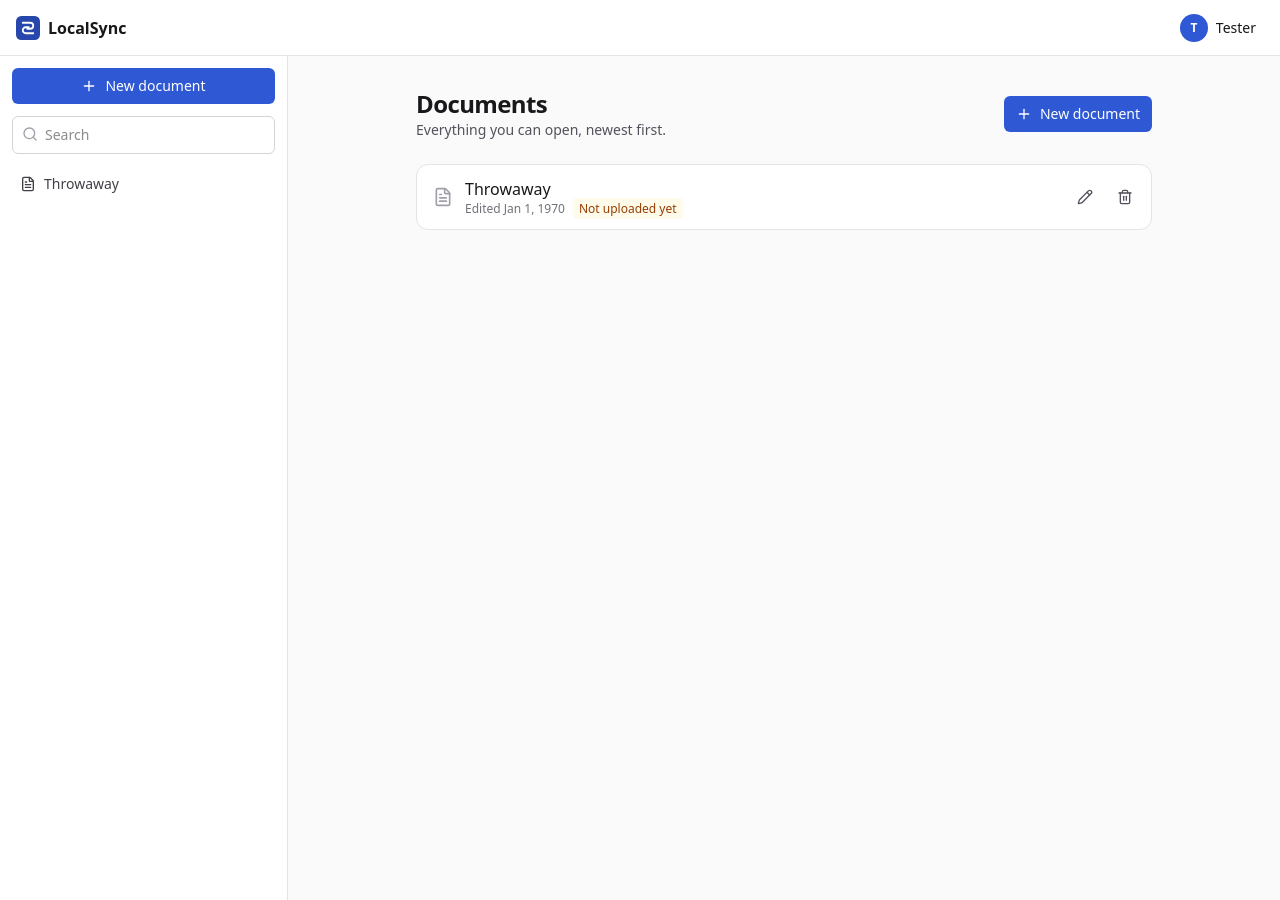
dashboard › asks for confirmation before deleting, and deleting restores the empty state
Click the button named "Delete Throwaway". click: (1125, 197)
box: 1107,179 -> 1143,215
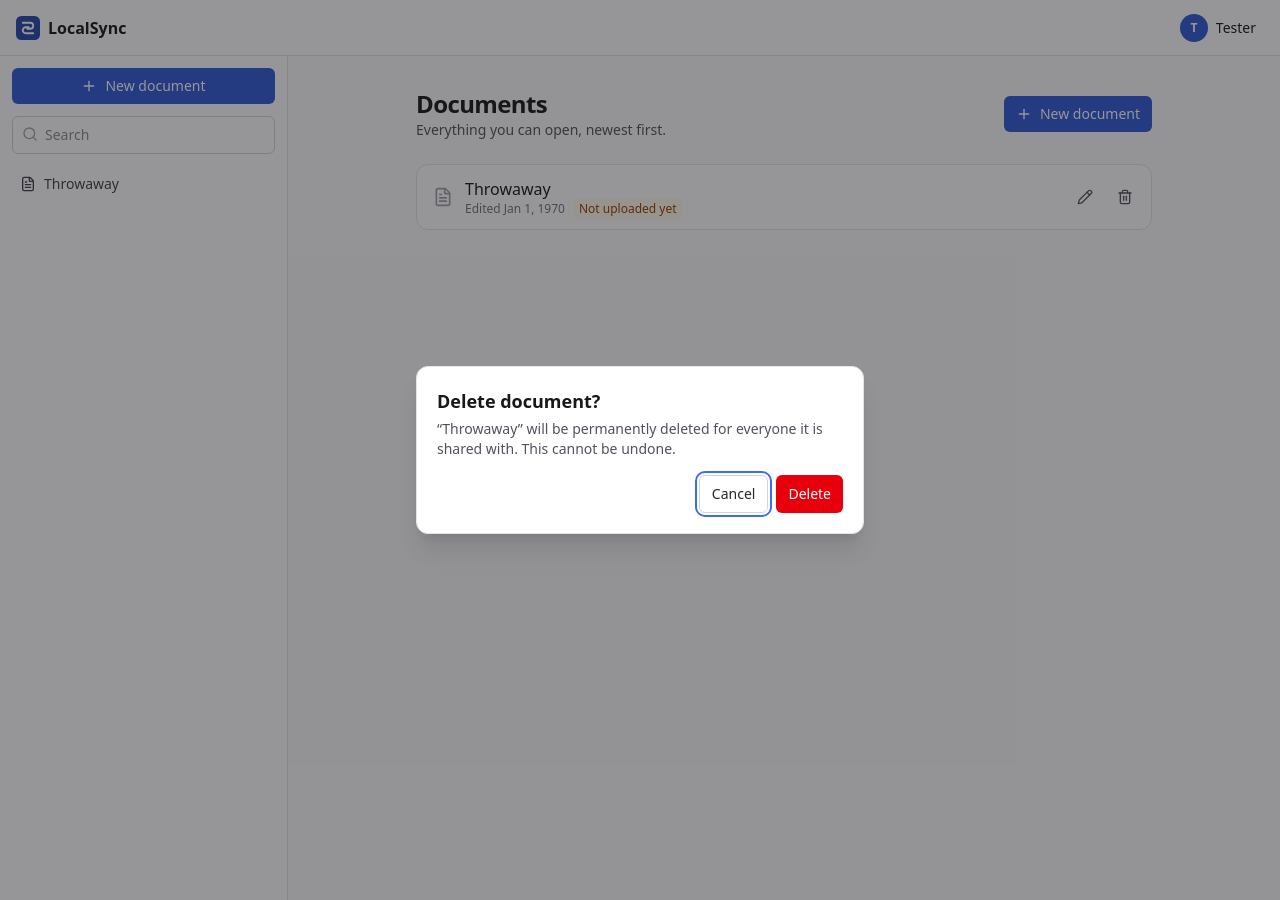
Expected: the text "permanently deleted" is shown, 437,419 -> 823,458
Click the button "Cancel". click: (734, 494)
box: 699,475 -> 768,513
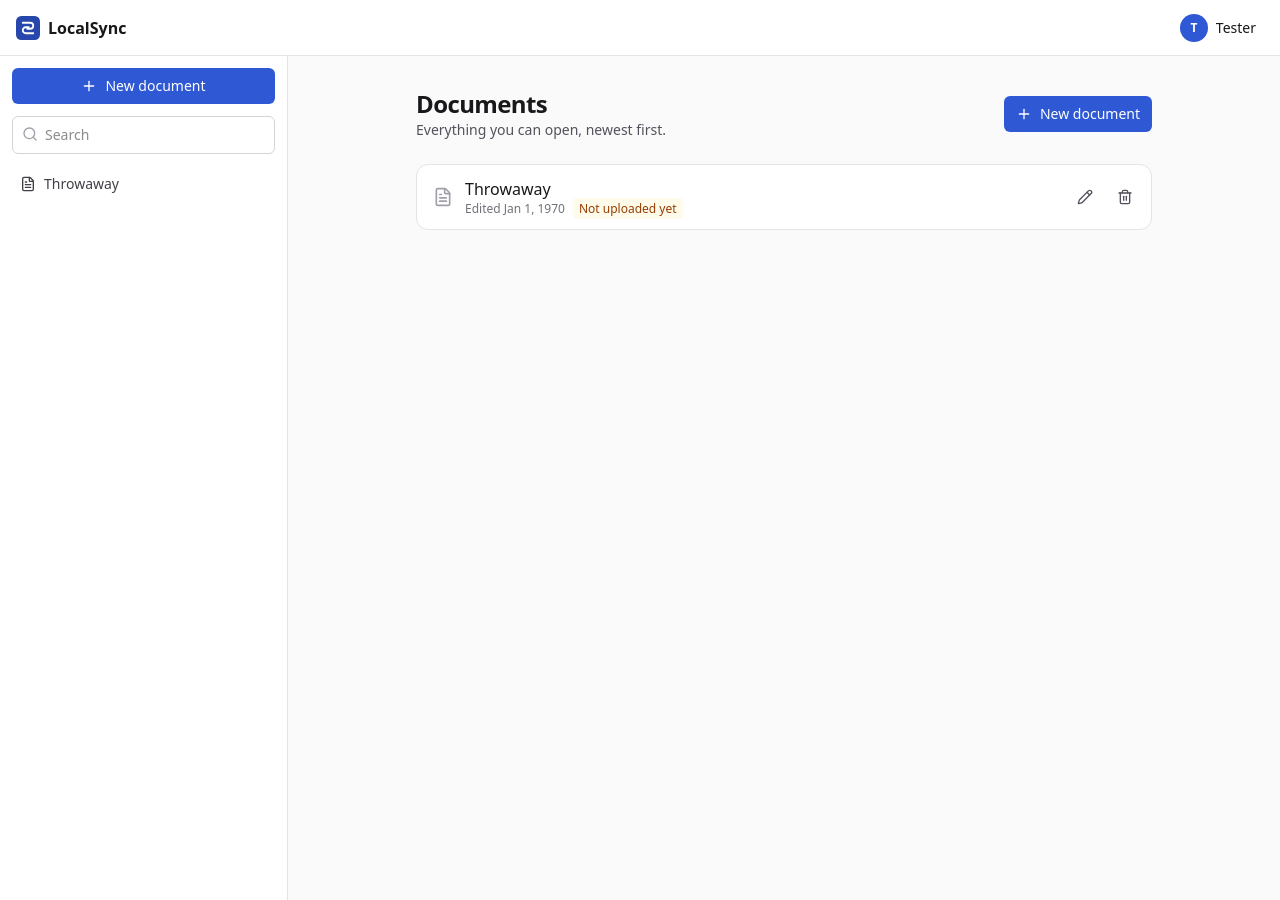
Click the button named "Delete Throwaway". click: (1125, 197)
box: 1107,179 -> 1143,215
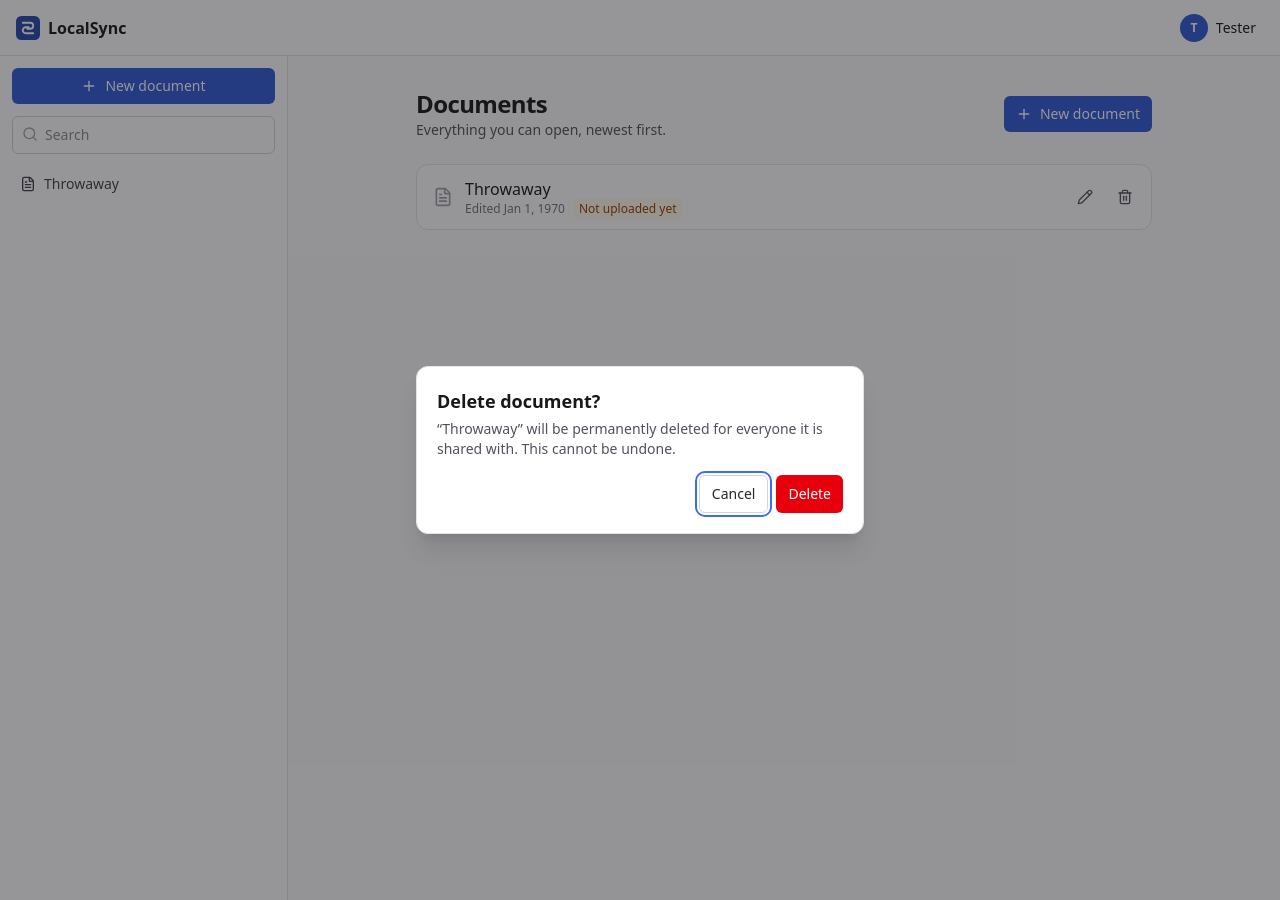
Click the button "Delete". click: (810, 494)
box: 776,475 -> 843,513
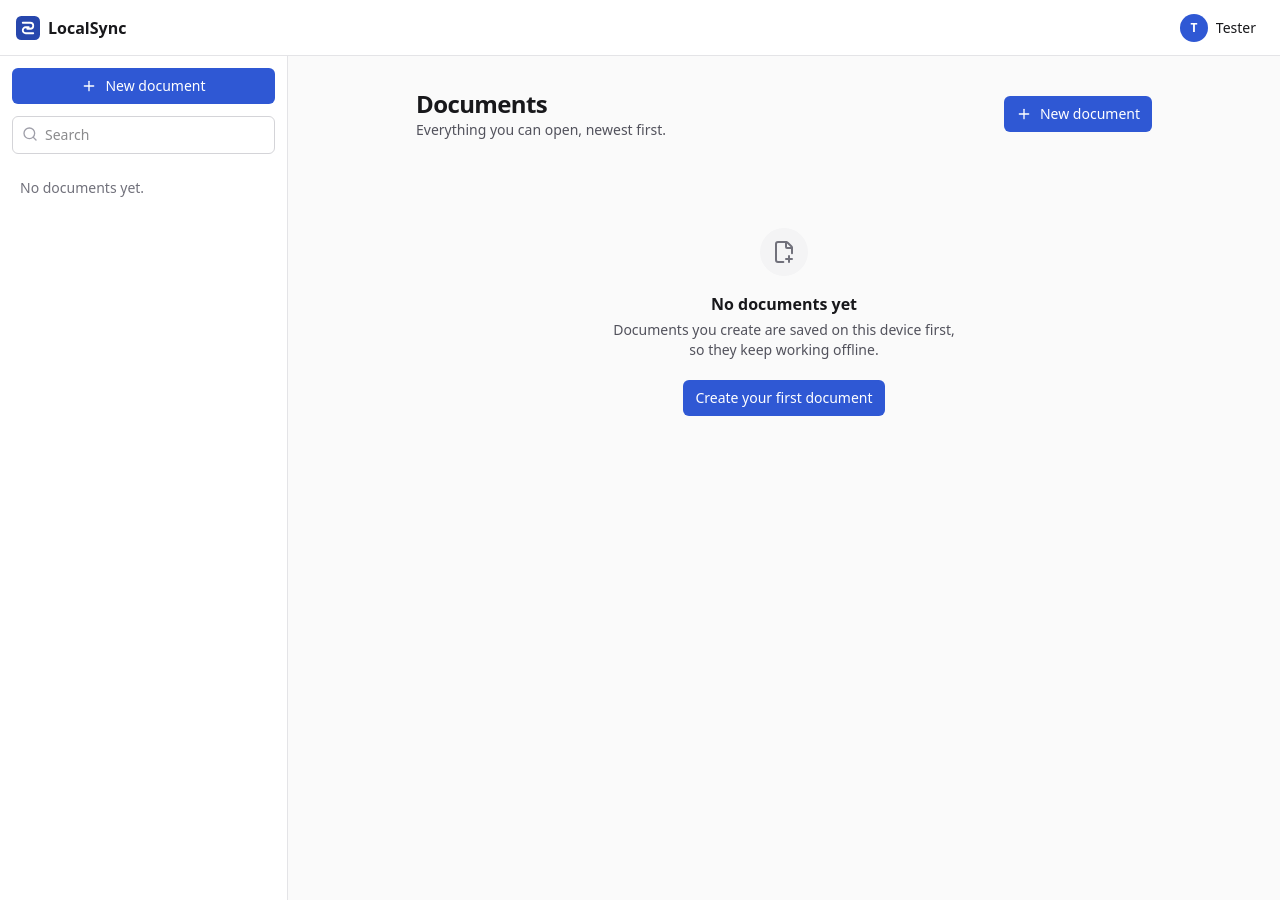
Expected: the heading "No documents yet" is shown, 711,292 -> 857,316
